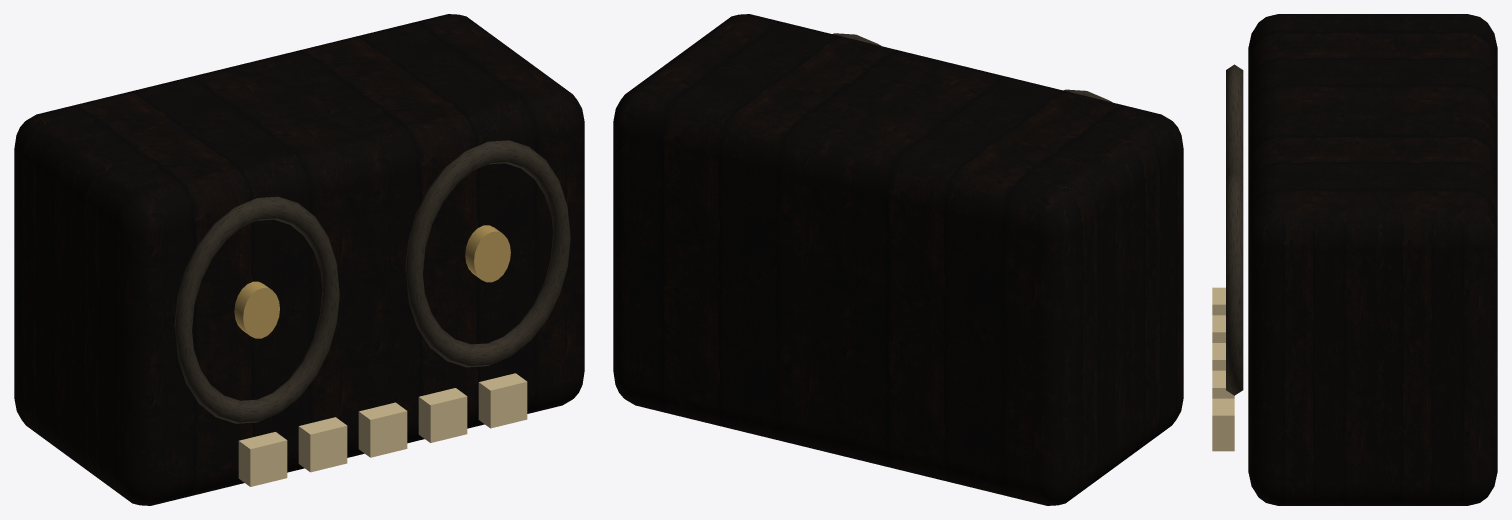
The picture shows the model from 3 angles, left to right: view 1: azimuth 30°, elevation 25°; view 2: azimuth 150°, elevation 25°; view 3: azimuth 270°, elevation 25°; orthographic projection. The views are drawn at different scales.
Parts seen in each view (by area): view 1: b-audio; view 2: b-audio; view 3: b-audio.
Boxes of the visible parts, left/top/right/bottom form: b-audio: left=14, top=14, right=584, bottom=505; b-audio: left=613, top=14, right=1183, bottom=505; b-audio: left=1212, top=14, right=1497, bottom=505.
Bounding box in the file's own units: 0.23 × 0.15 × 0.13.
Materials: 4 (2 with a texture image).
